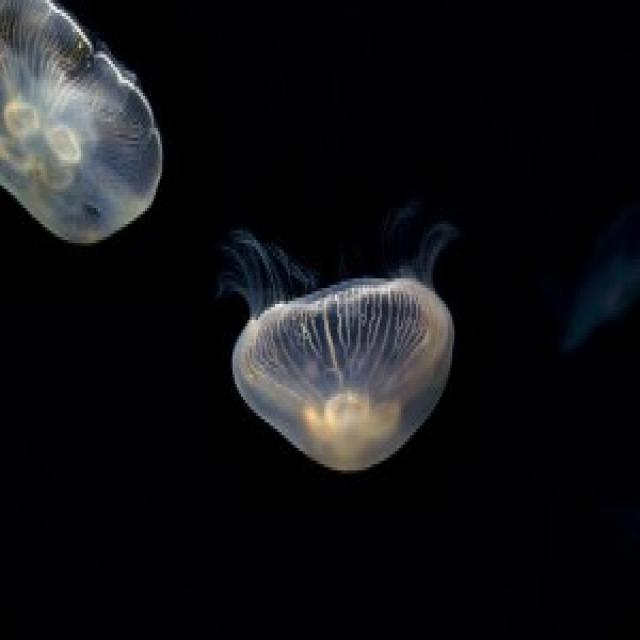Jellyfish: (226, 275, 464, 477), (0, 7, 161, 247)
